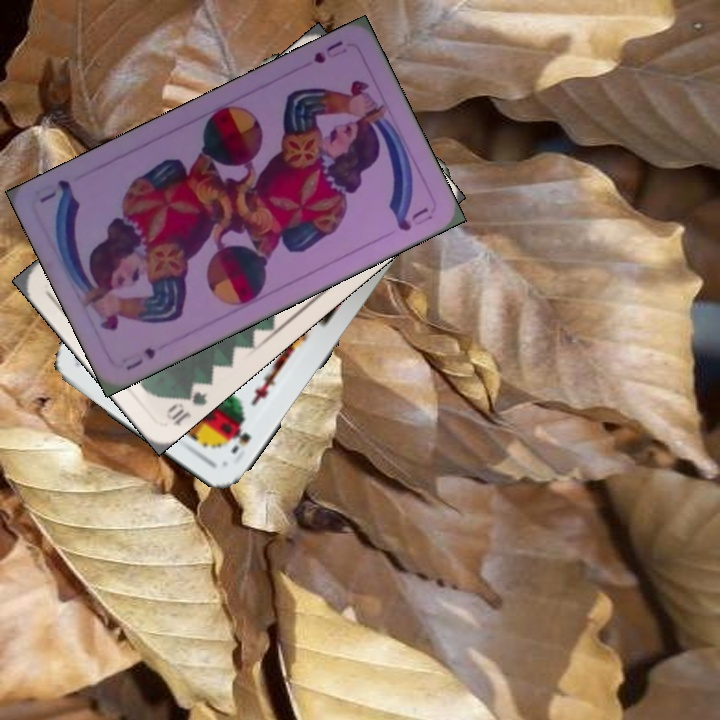G10: (163, 378, 210, 429)
SK: (227, 424, 254, 457)
SU: (121, 343, 159, 373), (309, 36, 346, 66)
